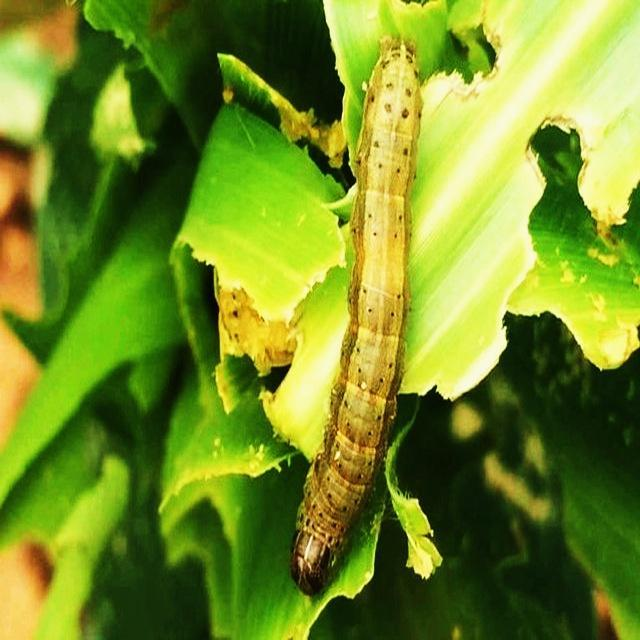worm: (288, 35, 425, 597)
